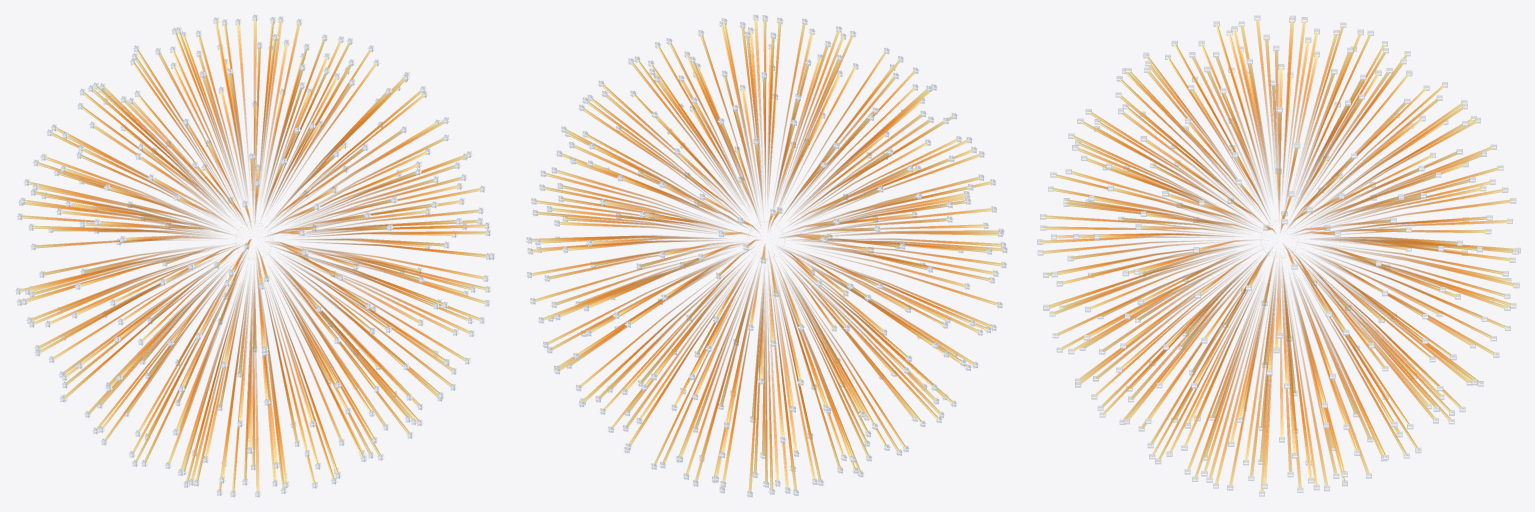
Rendered from fw_chrys_gold_silver_a.glb.
3 renders of one model, left to right at view 1: azimuth 30°, elevation 25°; view 2: azimuth 150°, elevation 25°; view 3: azimuth 270°, elevation 25°, orthographic.
Visible parts, largest first — view 1: spire; view 2: spire; view 3: spire.
Part boxes in pixels (<box>): spire: <box>15,14,495,497</box>; spire: <box>525,14,1007,497</box>; spire: <box>1037,15,1520,496</box>.
Size of the model in its own units: 22.24 by 22.25 by 22.19.
2 materials, 2 textured.
